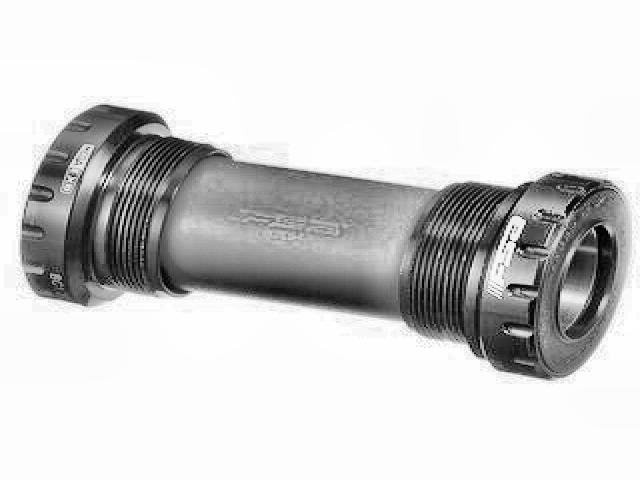bottom_bracket: (17, 101, 637, 384)
